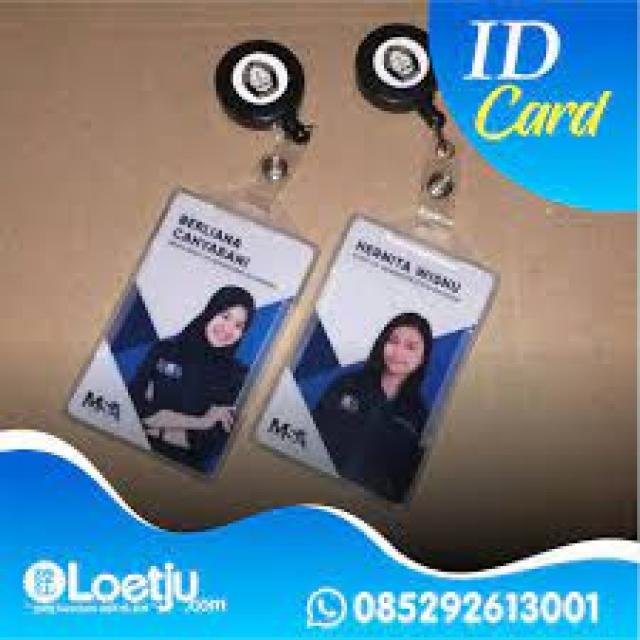ID_card: (64, 182, 320, 478), (249, 215, 496, 511)
